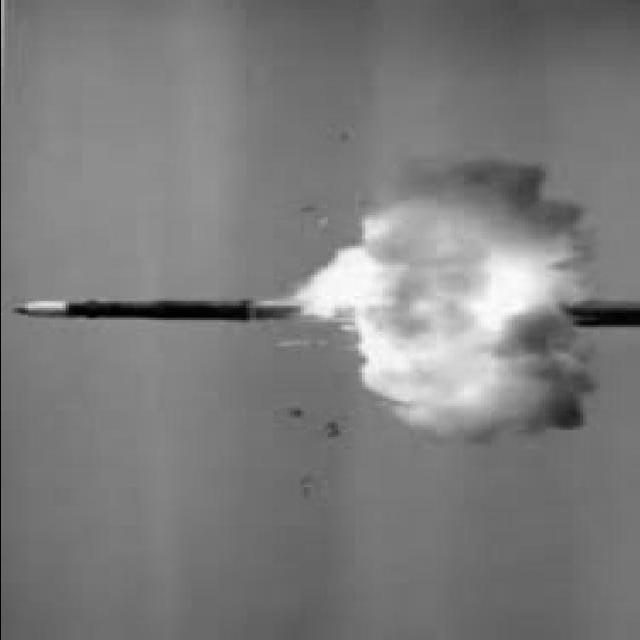Missile: (0, 296, 296, 325)
